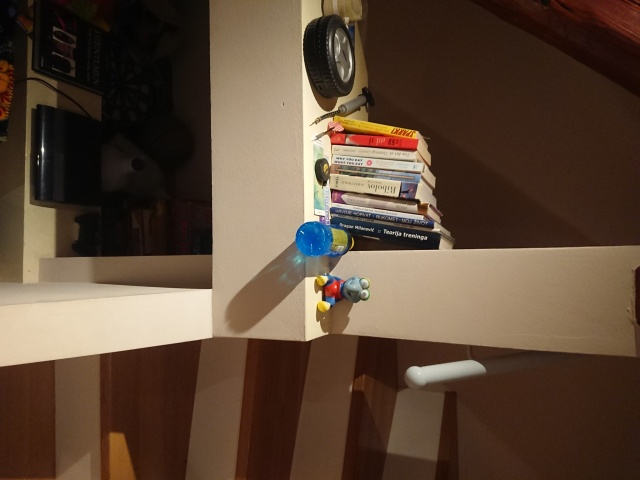Vindi Iso Sport Forest Strawberries 500mL: (294, 220, 358, 258)
